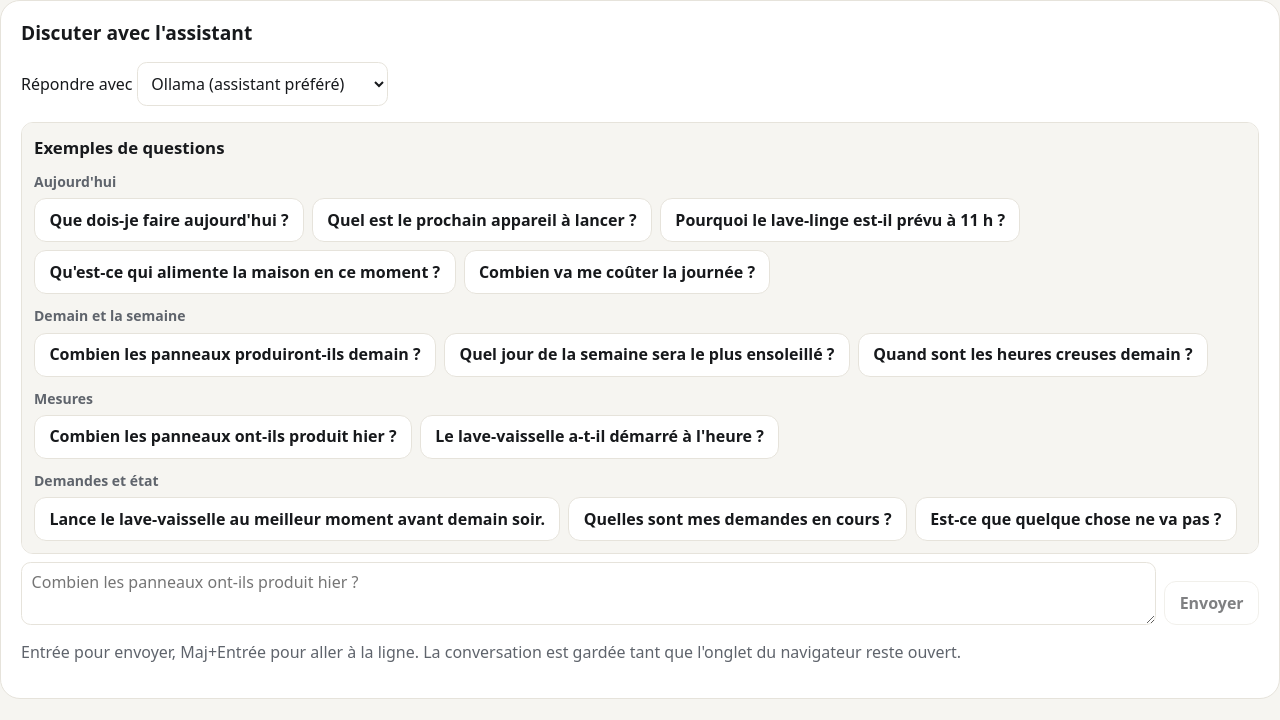
it: discussion avec l'assistant › une erreur s'affiche dans la conversation
(page scrolled)
Step 1. Type "Bonjour" into the text box named "Votre message" → (589, 594), box [21, 562, 1156, 625]
Then press Enter
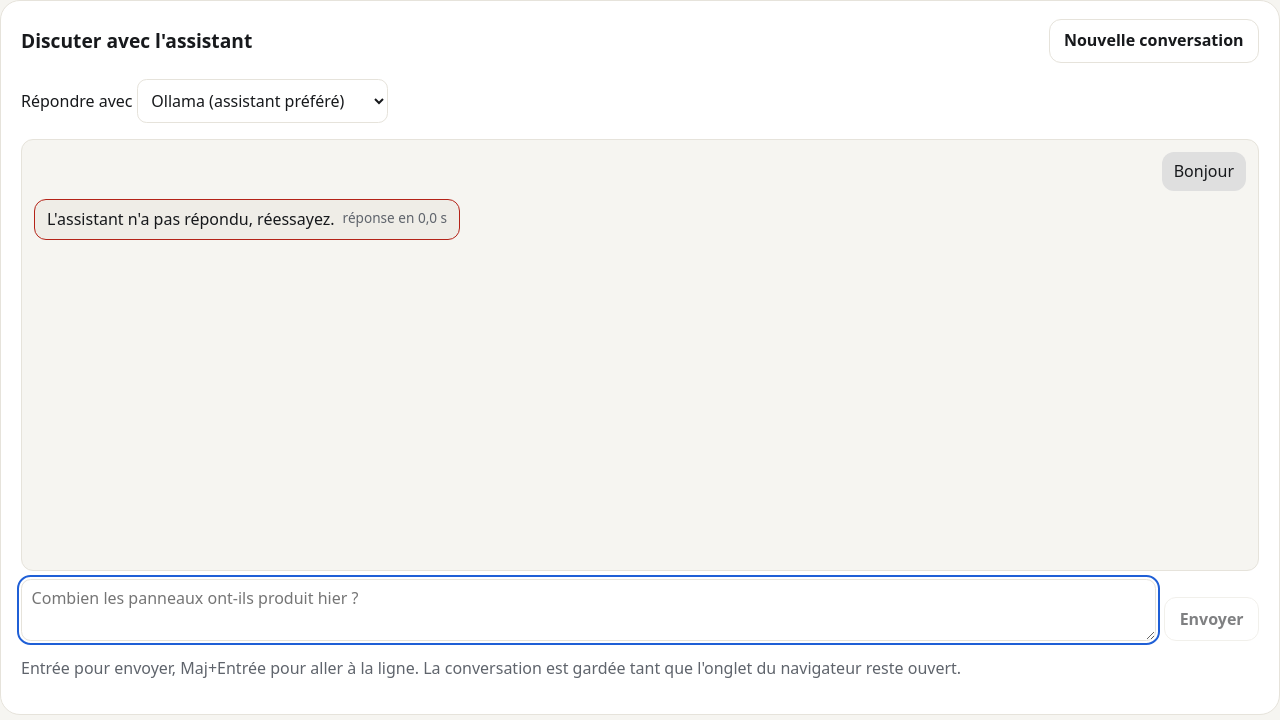
Now the text "L'assistant n'a pas répondu, réessayez." is shown, box [47, 208, 335, 230]
